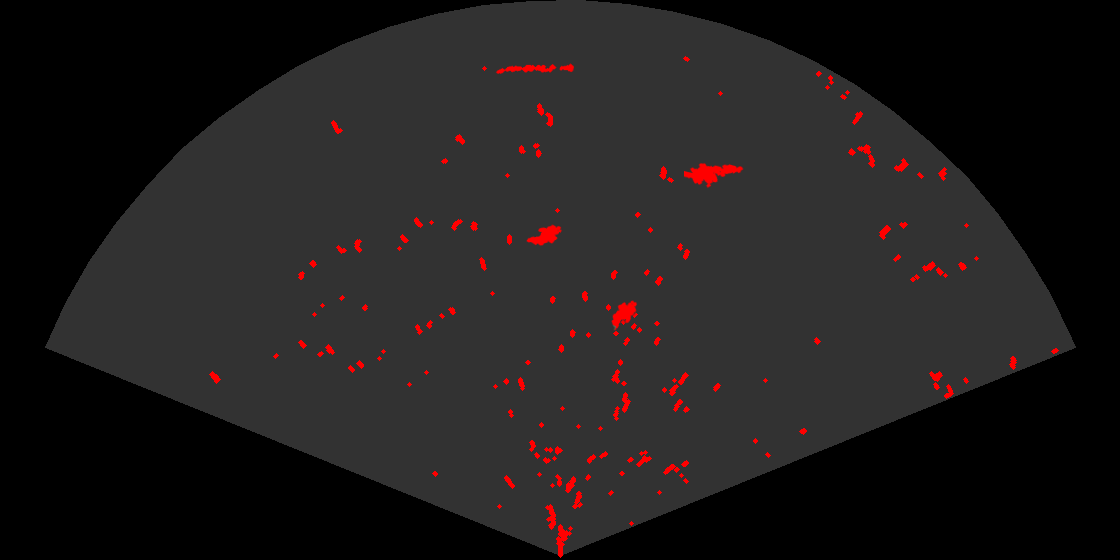AUV: (525, 223, 564, 248), (610, 299, 639, 332)
chain: (494, 62, 574, 75)
frogman: (684, 161, 745, 190)
